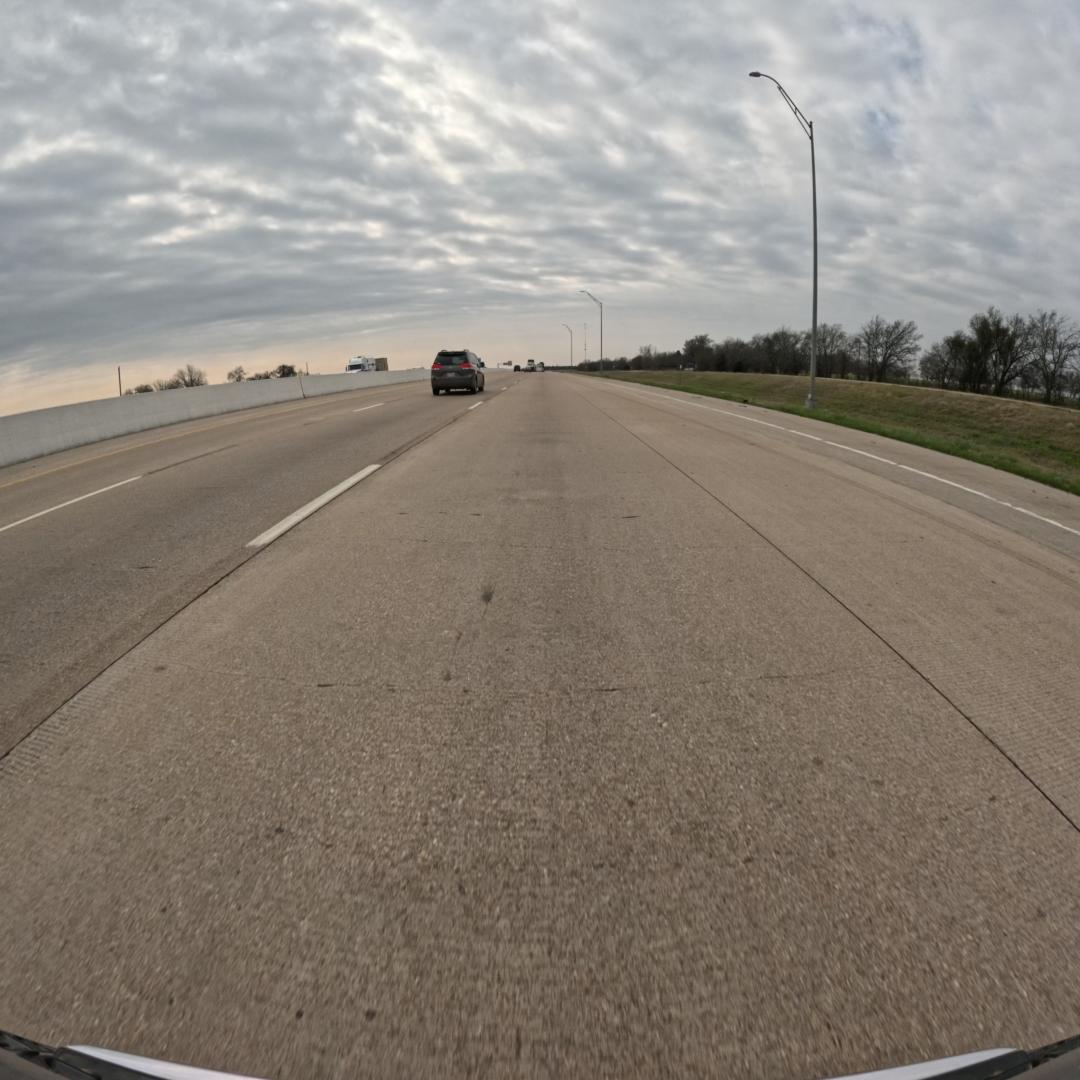lane0: (0, 376, 1080, 1076)
lane1: (0, 391, 482, 758)
